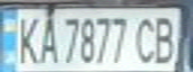7: (109, 13, 133, 64), (93, 13, 115, 64), (60, 12, 81, 64)
8: (78, 13, 96, 64)
A: (33, 11, 60, 64)
B: (148, 12, 181, 65)
C: (130, 12, 160, 64)
K: (12, 11, 42, 65)
